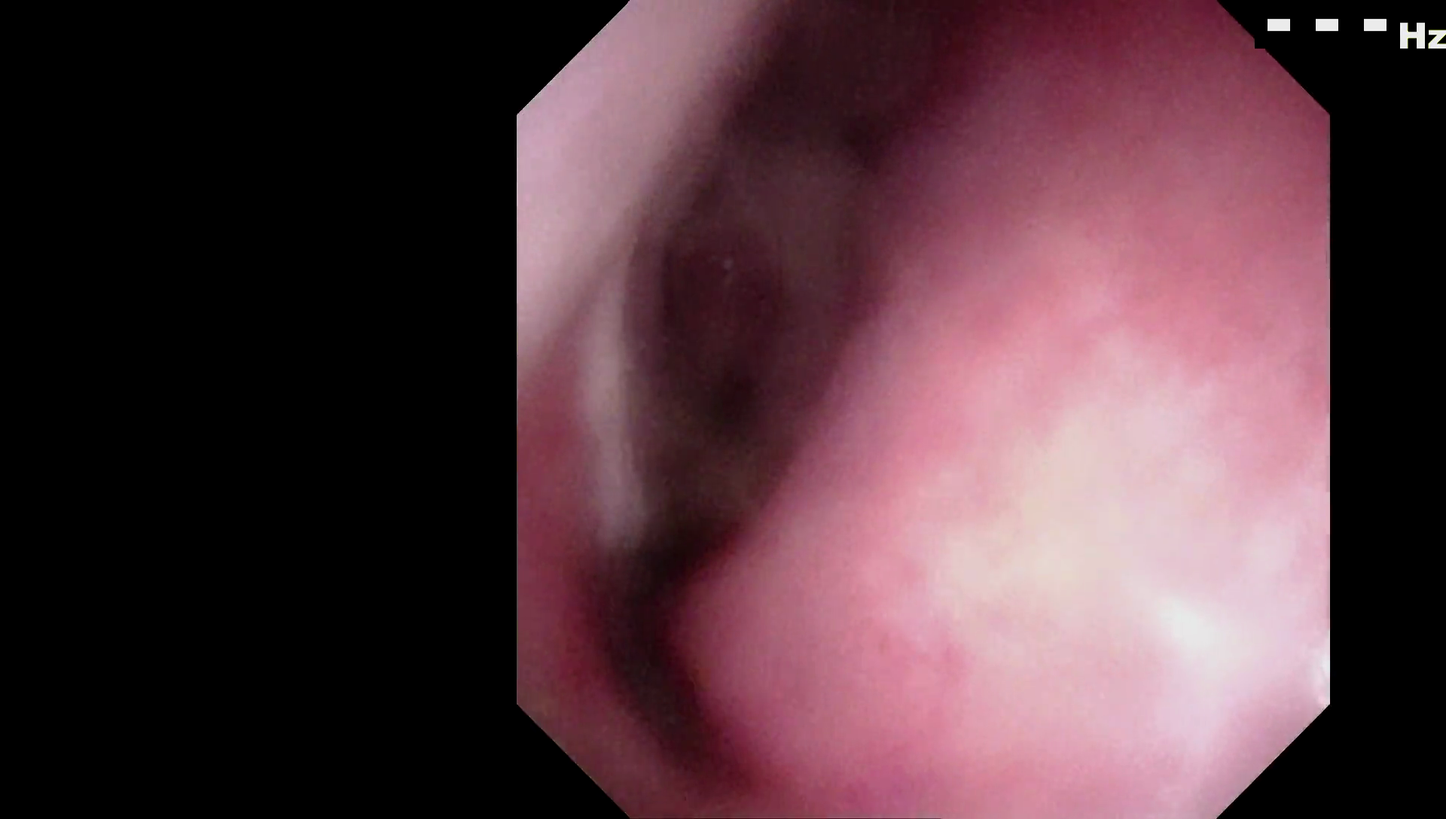close_wall: (852, 383, 1285, 727)
next: (599, 442, 760, 781)
